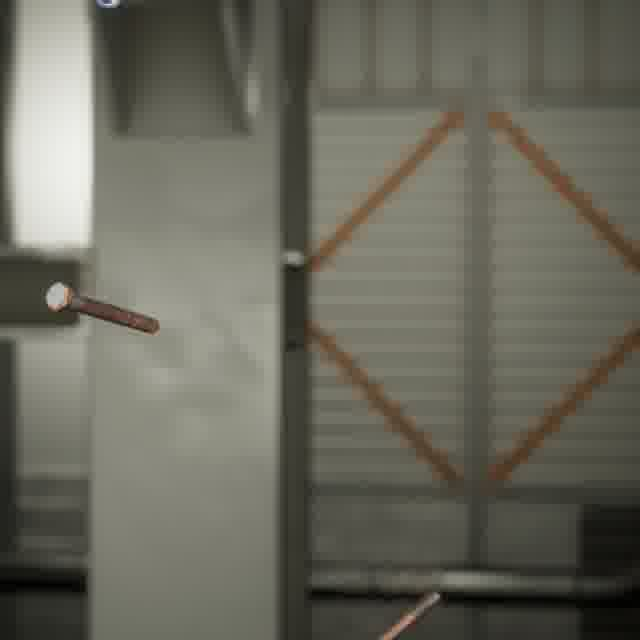bolt: (42, 278, 163, 337), (369, 586, 445, 640)
